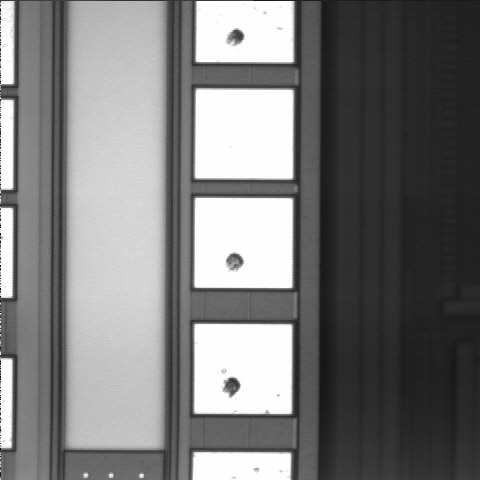pad: (195, 89, 293, 179), (195, 198, 293, 288), (194, 324, 292, 414)
